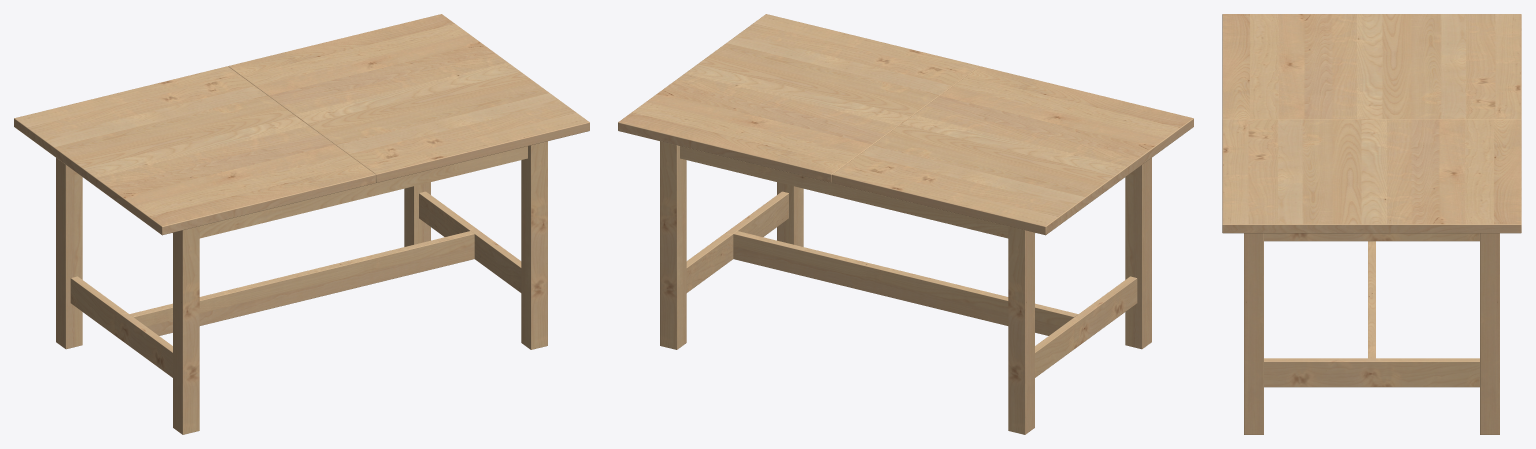
The picture shows the model from 3 angles, left to right: view 1: azimuth 30°, elevation 25°; view 2: azimuth 150°, elevation 25°; view 3: azimuth 270°, elevation 25°; orthographic projection.
Visible parts, largest first — view 1: Mesh12 Group_9_1 Table_Norden_IKEA1 Model, Mesh13 Group_9_2 Table_Norden_IKEA1 Model, Mesh2 Group_8_1 Table_Norden Table_Norden_IKEA1 Model, Mesh4 Group_2_1 Group_4_1 Table_Norden Table_Norden_IKEA1 Model, Mesh8 Group_2_3 Group_4_2 Table_Norden Table_Norden_IKEA1 Model, Mesh5 Group_2_2 Group_4_1 Table_Norden Table_Norden_IKEA1 Model, Mesh1 Group_6_1 Table_Norden Table_Norden_IKEA1 Model, Mesh6 Group_7_1 Group_4_1 Table_Norden Table_Norden_IKEA1 Model, Mesh10 Group_7_3 Group_4_2 Table_Norden Table_Norden_IKEA1 Model, Mesh9 Group_2_4 Group_4_2 Table_Norden Table_Norden_IKEA1 Model; view 2: Mesh12 Group_9_1 Table_Norden_IKEA1 Model, Mesh13 Group_9_2 Table_Norden_IKEA1 Model, Mesh2 Group_8_1 Table_Norden Table_Norden_IKEA1 Model, Mesh5 Group_2_2 Group_4_1 Table_Norden Table_Norden_IKEA1 Model, Mesh9 Group_2_4 Group_4_2 Table_Norden Table_Norden_IKEA1 Model, Mesh4 Group_2_1 Group_4_1 Table_Norden Table_Norden_IKEA1 Model, Mesh3 Group_6_2 Table_Norden Table_Norden_IKEA1 Model, Mesh6 Group_7_1 Group_4_1 Table_Norden Table_Norden_IKEA1 Model, Mesh10 Group_7_3 Group_4_2 Table_Norden Table_Norden_IKEA1 Model, Mesh8 Group_2_3 Group_4_2 Table_Norden Table_Norden_IKEA1 Model; view 3: Mesh13 Group_9_2 Table_Norden_IKEA1 Model, Mesh12 Group_9_1 Table_Norden_IKEA1 Model, Mesh10 Group_7_3 Group_4_2 Table_Norden Table_Norden_IKEA1 Model, Mesh8 Group_2_3 Group_4_2 Table_Norden Table_Norden_IKEA1 Model, Mesh9 Group_2_4 Group_4_2 Table_Norden Table_Norden_IKEA1 Model, Mesh11 Group_7_4 Group_4_2 Table_Norden Table_Norden_IKEA1 Model, Mesh2 Group_8_1 Table_Norden Table_Norden_IKEA1 Model.
Boxes of the visible parts, box(x1,y1,x2,y2) form: Mesh12 Group_9_1 Table_Norden_IKEA1 Model: box(14, 66, 375, 235); Mesh13 Group_9_2 Table_Norden_IKEA1 Model: box(228, 14, 589, 182); Mesh2 Group_8_1 Table_Norden Table_Norden_IKEA1 Model: box(129, 231, 474, 335); Mesh4 Group_2_1 Group_4_1 Table_Norden Table_Norden_IKEA1 Model: box(173, 226, 199, 434); Mesh8 Group_2_3 Group_4_2 Table_Norden Table_Norden_IKEA1 Model: box(521, 141, 547, 349); Mesh5 Group_2_2 Group_4_1 Table_Norden Table_Norden_IKEA1 Model: box(56, 158, 82, 349); Mesh1 Group_6_1 Table_Norden Table_Norden_IKEA1 Model: box(199, 146, 527, 238); Mesh6 Group_7_1 Group_4_1 Table_Norden Table_Norden_IKEA1 Model: box(70, 276, 172, 377); Mesh10 Group_7_3 Group_4_2 Table_Norden Table_Norden_IKEA1 Model: box(419, 191, 521, 292); Mesh9 Group_2_4 Group_4_2 Table_Norden Table_Norden_IKEA1 Model: box(404, 182, 430, 246); Mesh12 Group_9_1 Table_Norden_IKEA1 Model: box(832, 66, 1193, 235); Mesh13 Group_9_2 Table_Norden_IKEA1 Model: box(618, 14, 979, 182); Mesh2 Group_8_1 Table_Norden Table_Norden_IKEA1 Model: box(733, 231, 1078, 335); Mesh5 Group_2_2 Group_4_1 Table_Norden Table_Norden_IKEA1 Model: box(1008, 226, 1034, 434); Mesh9 Group_2_4 Group_4_2 Table_Norden Table_Norden_IKEA1 Model: box(660, 141, 686, 349); Mesh4 Group_2_1 Group_4_1 Table_Norden Table_Norden_IKEA1 Model: box(1125, 158, 1151, 349); Mesh3 Group_6_2 Table_Norden Table_Norden_IKEA1 Model: box(680, 146, 1008, 238); Mesh6 Group_7_1 Group_4_1 Table_Norden Table_Norden_IKEA1 Model: box(1035, 276, 1137, 377); Mesh10 Group_7_3 Group_4_2 Table_Norden Table_Norden_IKEA1 Model: box(686, 191, 788, 292); Mesh8 Group_2_3 Group_4_2 Table_Norden Table_Norden_IKEA1 Model: box(777, 182, 803, 246); Mesh13 Group_9_2 Table_Norden_IKEA1 Model: box(1222, 119, 1521, 233); Mesh12 Group_9_1 Table_Norden_IKEA1 Model: box(1222, 14, 1521, 119); Mesh10 Group_7_3 Group_4_2 Table_Norden Table_Norden_IKEA1 Model: box(1264, 358, 1479, 387); Mesh8 Group_2_3 Group_4_2 Table_Norden Table_Norden_IKEA1 Model: box(1244, 233, 1263, 434); Mesh9 Group_2_4 Group_4_2 Table_Norden Table_Norden_IKEA1 Model: box(1480, 233, 1499, 434); Mesh11 Group_7_4 Group_4_2 Table_Norden Table_Norden_IKEA1 Model: box(1264, 233, 1479, 241); Mesh2 Group_8_1 Table_Norden Table_Norden_IKEA1 Model: box(1368, 241, 1375, 358).
Bounding box in the file's own units: 150 × 75 × 90.
